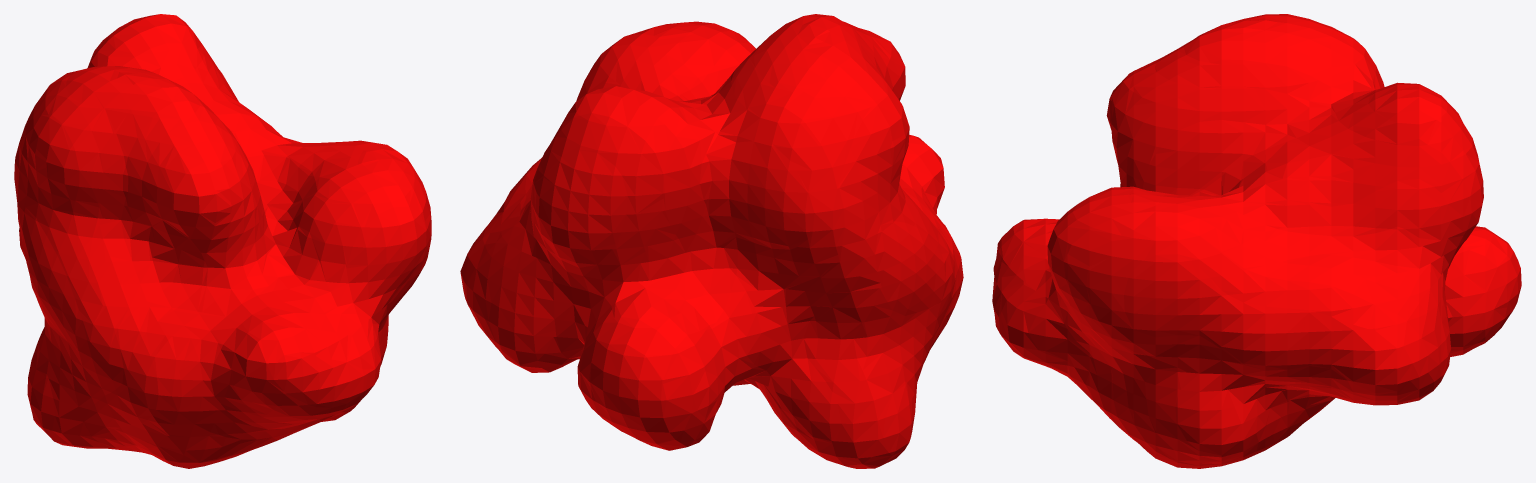
File: ylaC_coarse.dae
3 views of the same model, side by side, from view 1: azimuth 30°, elevation 25°; view 2: azimuth 150°, elevation 25°; view 3: azimuth 270°, elevation 25° (orthographic). The views are drawn at different scales.
Visible parts, largest first — view 1: ylaC; view 2: ylaC; view 3: ylaC.
Part boxes in pixels (x1,y1,x2,y2): ylaC: (14,14,431,468); ylaC: (460,14,963,468); ylaC: (992,14,1521,468).
Size of the model in its own units: 38.18 by 39.06 by 50.31.
